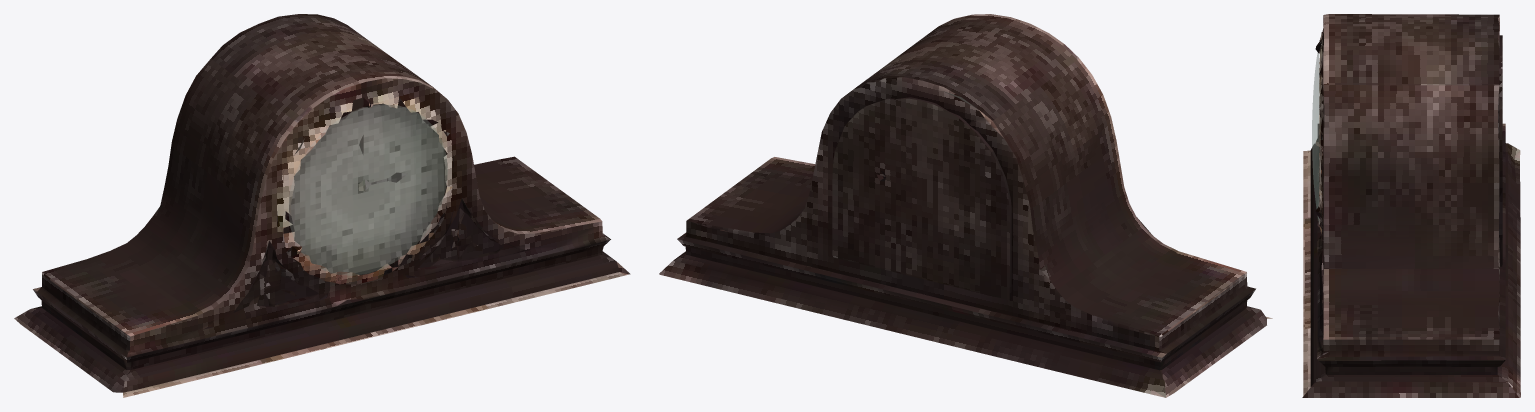
The model's file is mantel_clock.glb.
3 views of the same model, side by side, from view 1: azimuth 30°, elevation 25°; view 2: azimuth 150°, elevation 25°; view 3: azimuth 270°, elevation 25° (orthographic).
Visible parts, largest first — view 1: body, glass; view 2: body; view 3: body, glass.
Boxes of the visible parts, x1,y1,x2,y2 form: body: [14, 14, 630, 397]; glass: [288, 104, 447, 275]; body: [659, 14, 1272, 397]; body: [1302, 14, 1520, 397]; glass: [1312, 53, 1319, 223].
Bounding box in the file's own units: 0.3437 × 0.1605 × 0.128.
2 materials, 2 textured.
